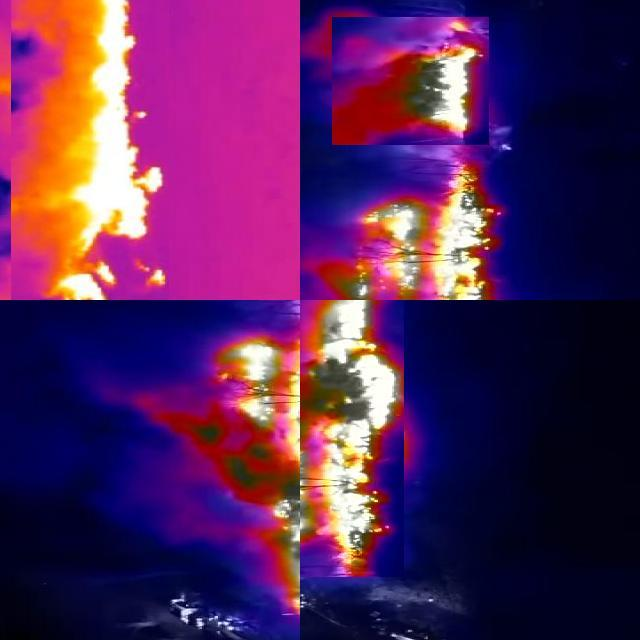fire: (11, 1, 169, 301), (193, 301, 301, 630), (301, 157, 519, 301), (301, 301, 404, 578), (332, 18, 489, 146)
